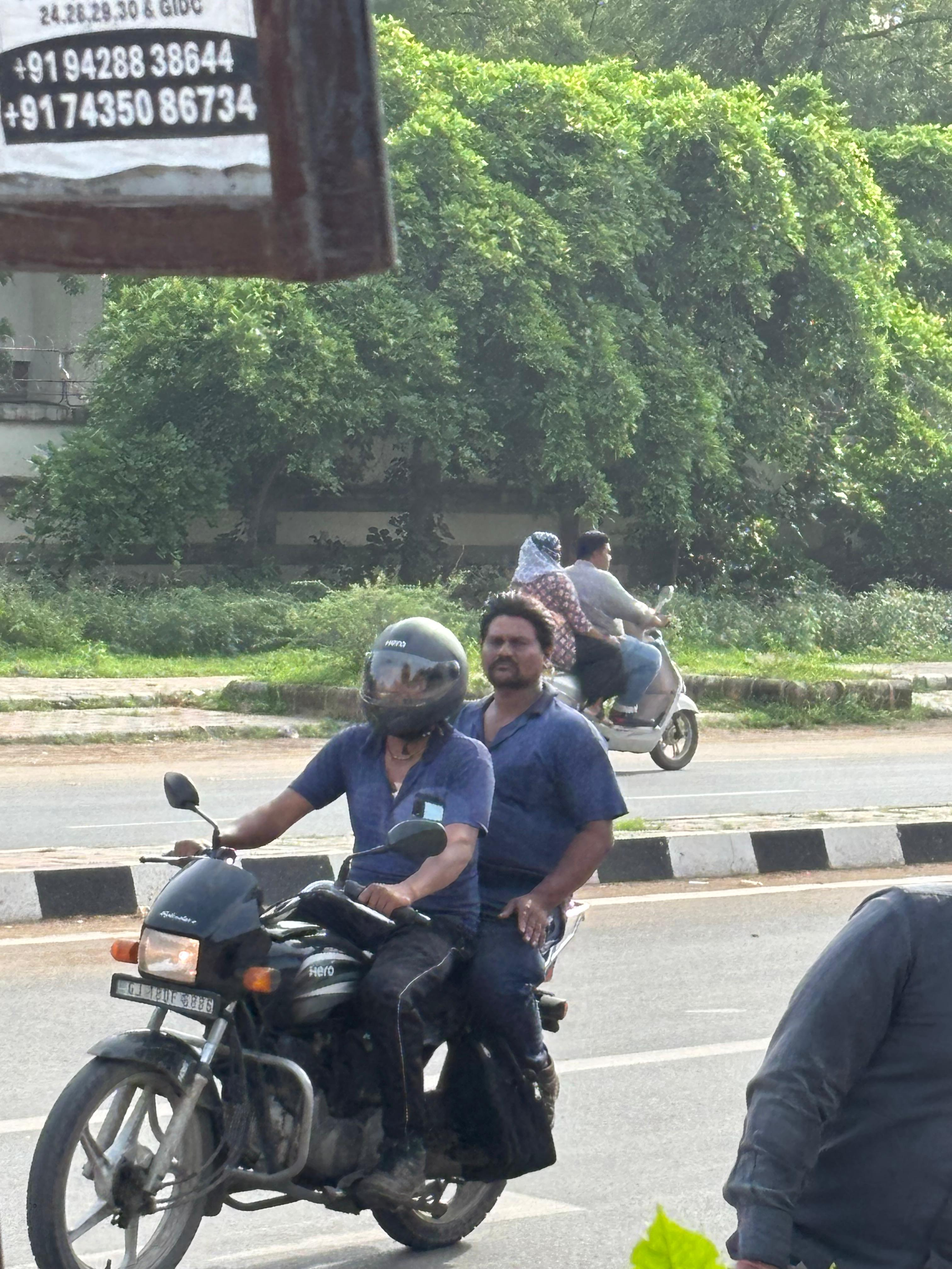BikeWithRider: (8, 580, 627, 1269), (477, 517, 716, 776)
Helmet: (348, 606, 475, 745)
NoHelmet: (468, 589, 567, 699), (500, 520, 571, 597), (573, 522, 624, 572), (517, 526, 564, 574)
